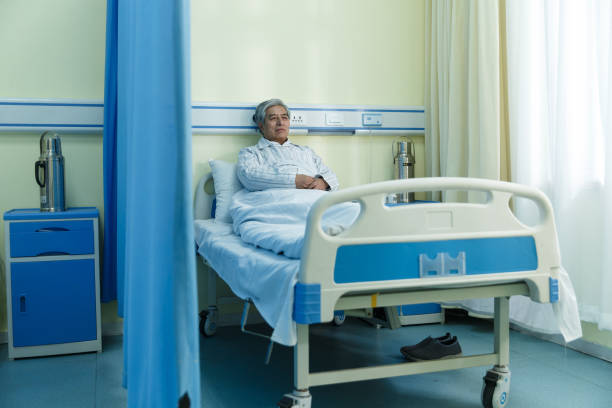bedside_table: (4, 206, 103, 360)
curtain: (422, 1, 612, 332), (100, 1, 202, 408)
foot_board: (293, 178, 561, 324)
hospital_bed: (193, 169, 562, 407)
light_switch: (324, 111, 346, 127)
patient: (236, 98, 340, 191)
